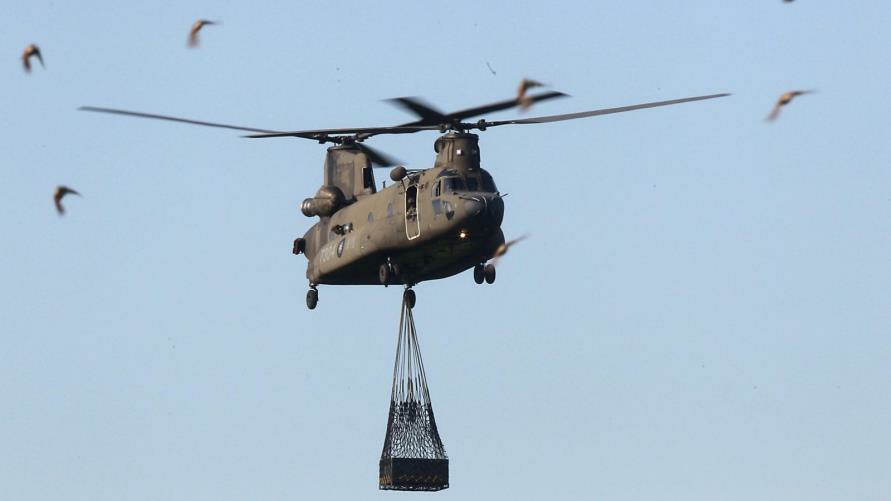chinook: (153, 85, 666, 314)
